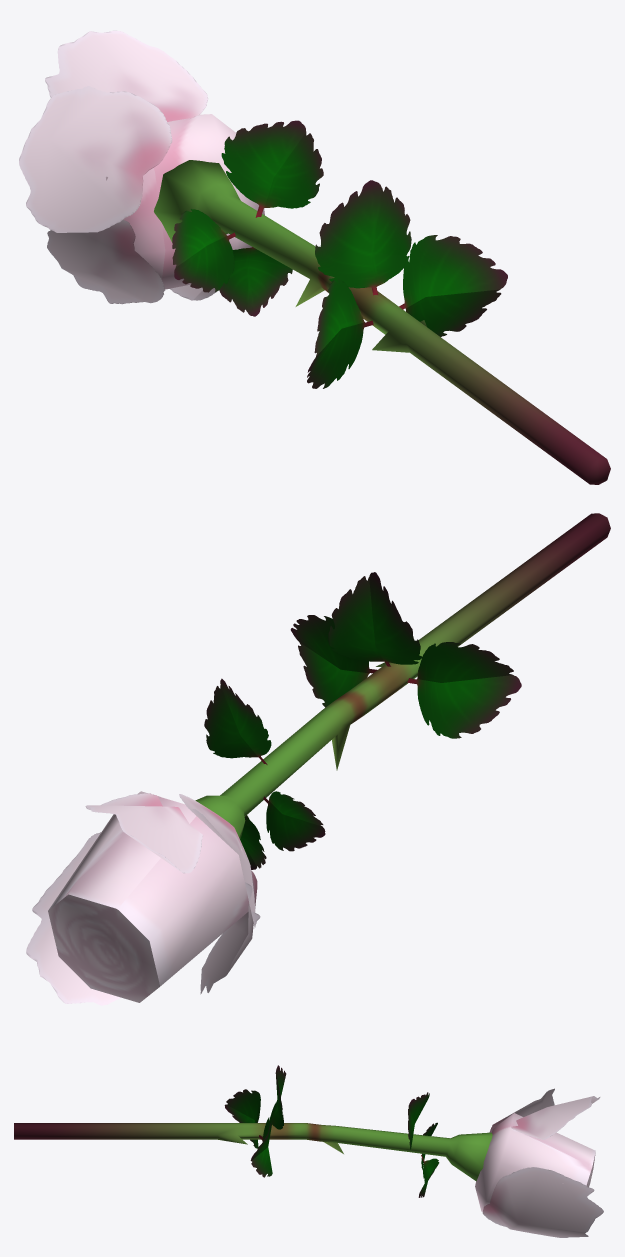
The model's file is SM_Rose_White_Closed.fbx.
The picture shows the model from 3 angles, top to bottom: view 1: azimuth 30°, elevation 25°; view 2: azimuth 150°, elevation 25°; view 3: azimuth 270°, elevation 25°; orthographic projection. The views are drawn at different scales.
Parts seen in each view (by area): view 1: Rose_White_Closed; view 2: Rose_White_Closed; view 3: Rose_White_Closed.
Part boxes in pixels (box(x1,y1,x2,y2)): Rose_White_Closed: box(19, 30, 610, 484); Rose_White_Closed: box(26, 513, 610, 1005); Rose_White_Closed: box(14, 1065, 603, 1237).
Size of the model in its own units: 35.12 by 42.85 by 129.
